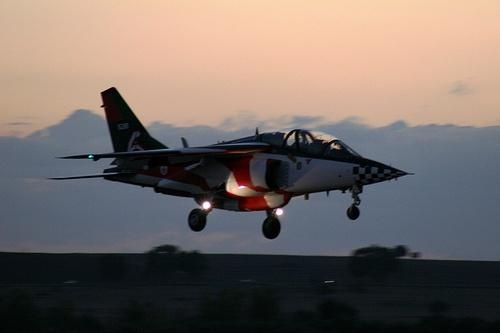aeroplane: (45, 87, 418, 245)
